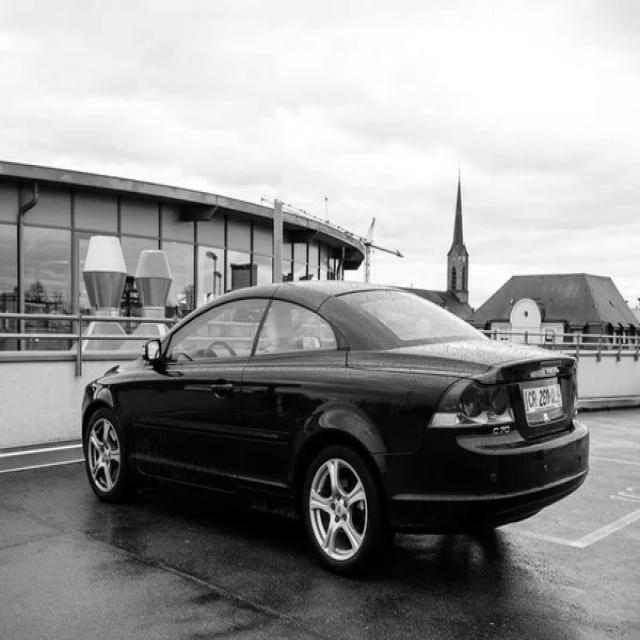Car: (81, 285, 591, 573)
